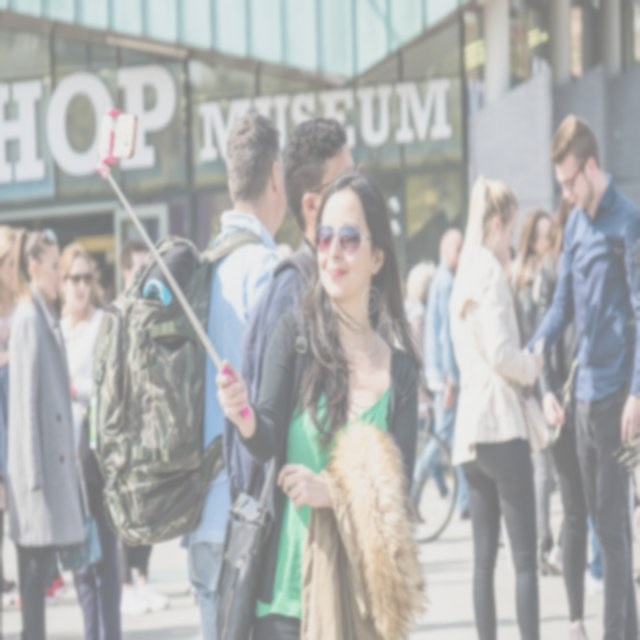pessoa: (216, 169, 427, 639), (518, 109, 640, 639), (220, 110, 371, 498), (188, 111, 289, 638), (442, 166, 554, 639), (532, 186, 636, 639), (1, 220, 90, 639), (52, 238, 126, 639), (408, 223, 478, 531), (512, 208, 565, 576), (544, 462, 640, 587), (396, 253, 435, 409), (5, 542, 70, 618), (89, 242, 118, 312), (119, 239, 151, 292), (498, 242, 517, 280)
